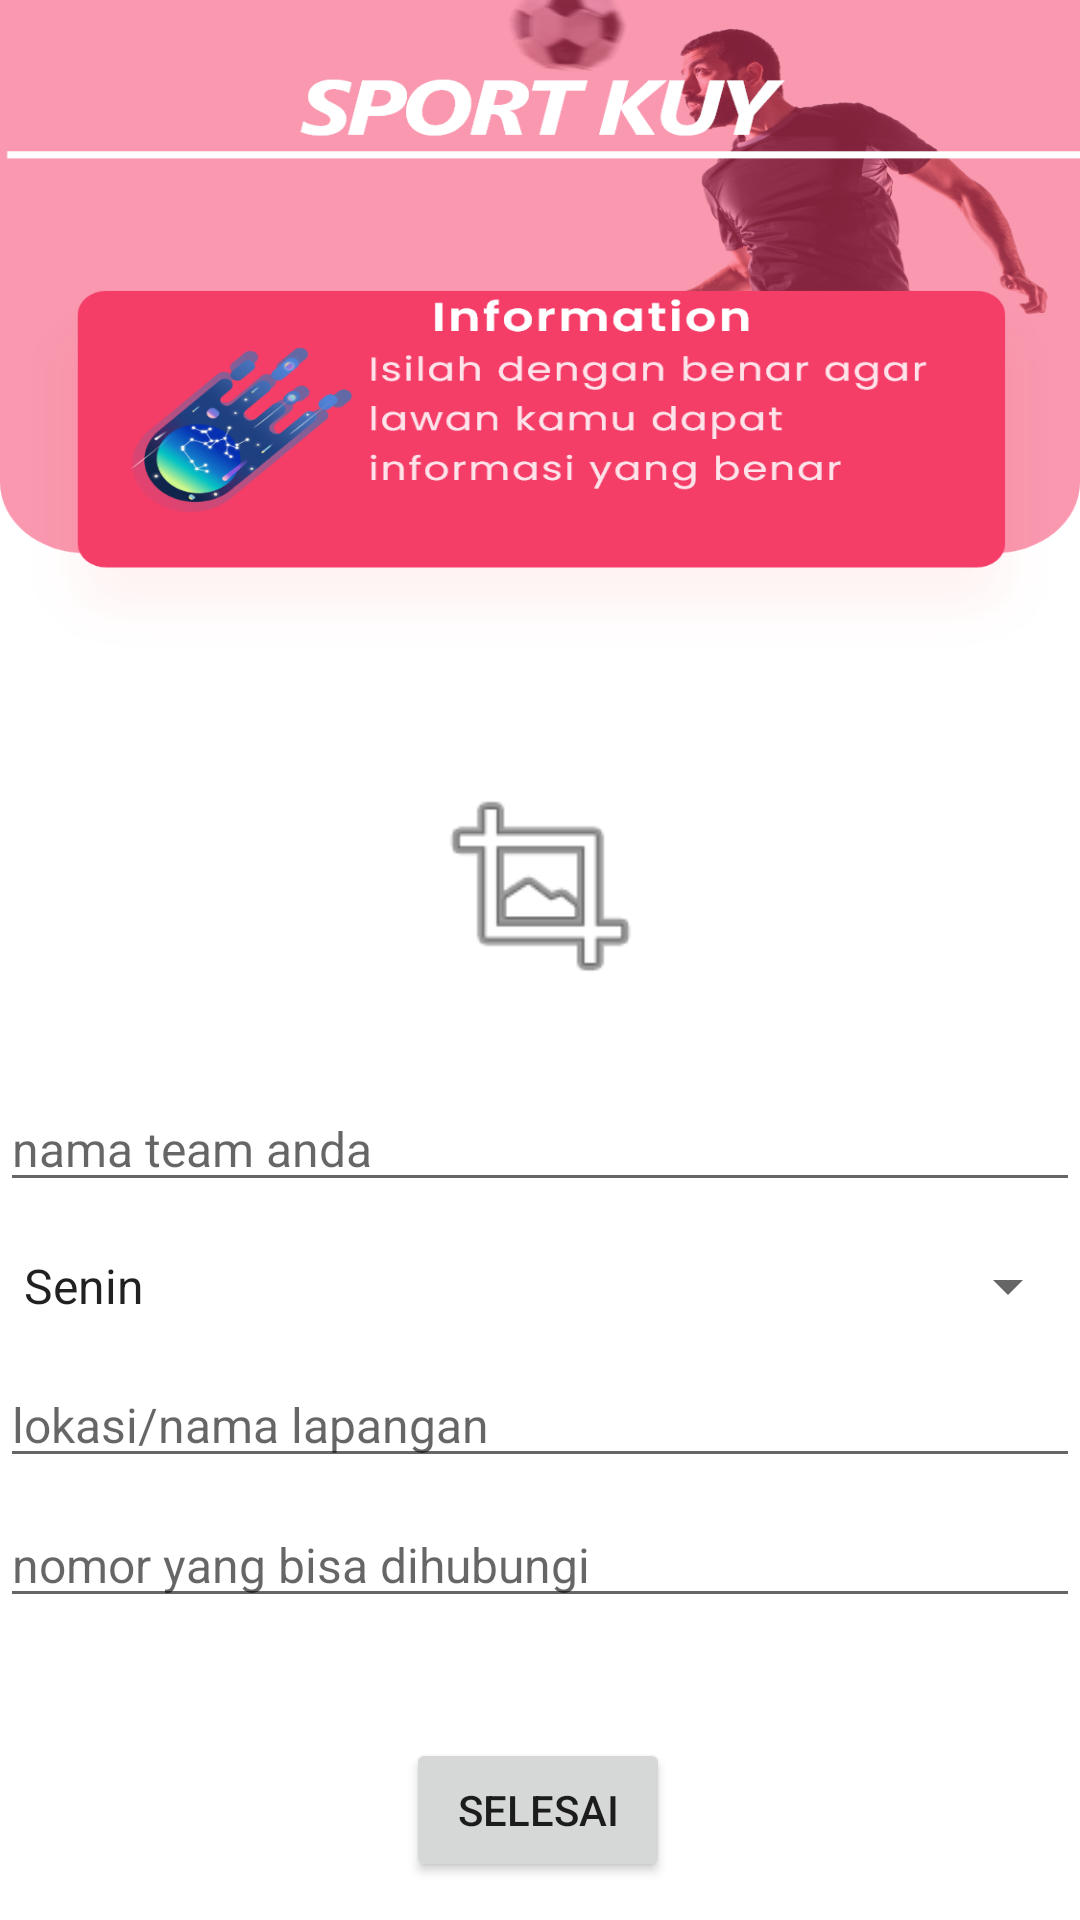

Point at icon controls on the screen. Image size 1080px x 1920px, points as point (x, y).
crop: point (540, 886)
